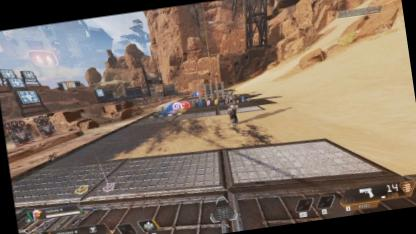Target: (223, 88, 241, 125)
